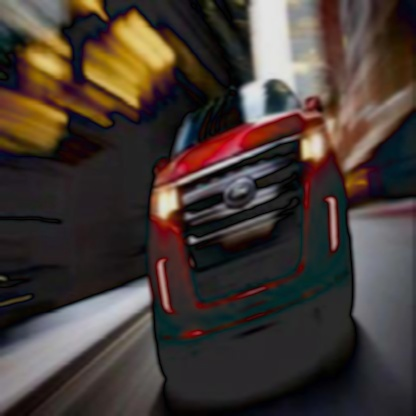Vehicle: (148, 41, 359, 384)
